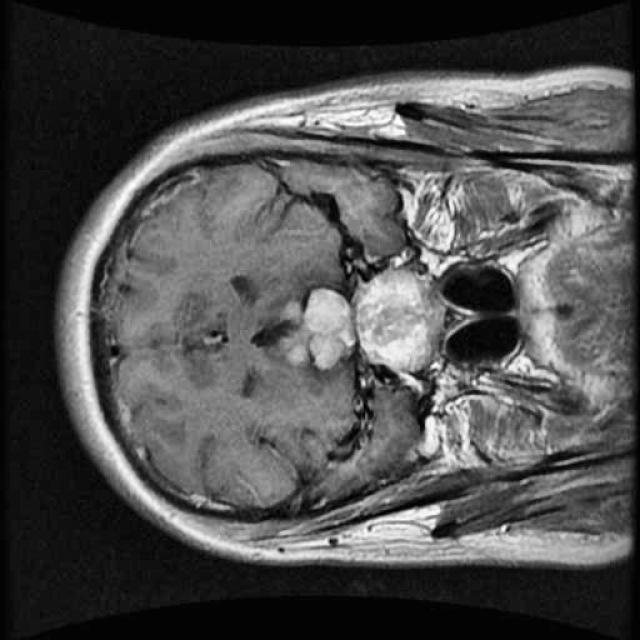Tumor: (299, 250, 454, 385)
